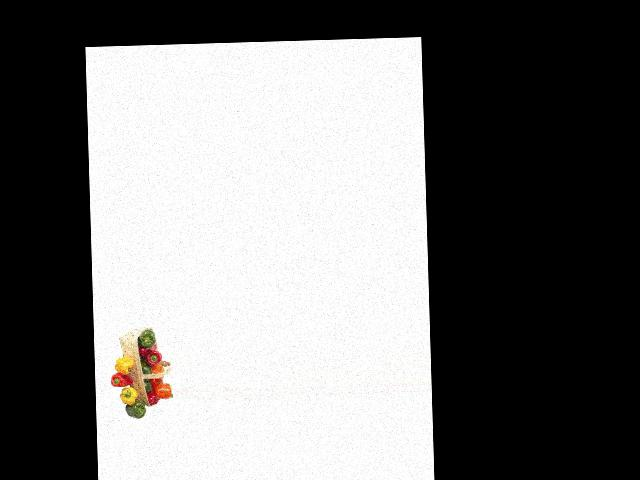bell_pepper: (139, 329, 156, 349)
